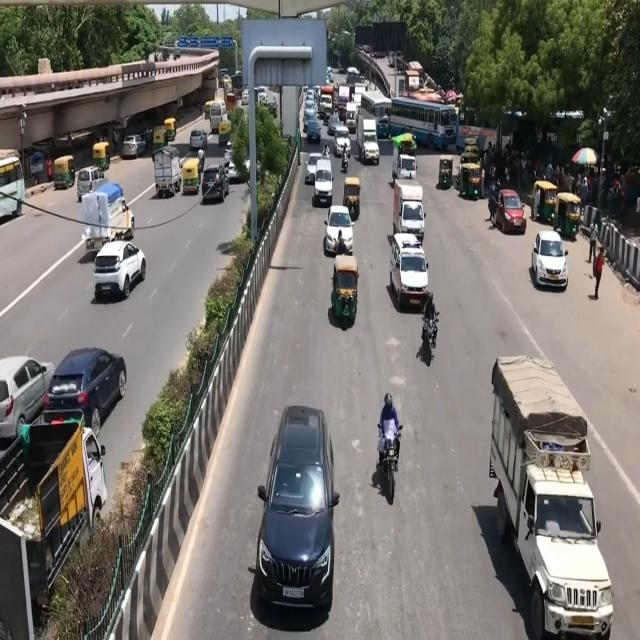Auto: (320, 254, 370, 332), (436, 147, 456, 195), (344, 178, 363, 222)
Bike: (377, 394, 412, 506), (418, 299, 446, 369)
Bus: (389, 89, 457, 135)
Tempo: (484, 353, 619, 638), (79, 190, 141, 240)
